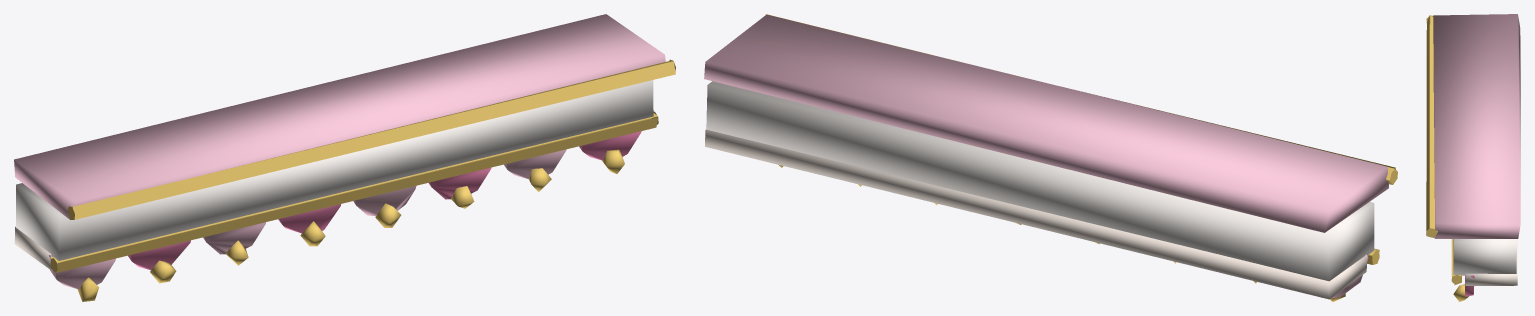
The model's file is lod_cornice_scallop.glb.
The picture shows the model from 3 angles, left to right: view 1: azimuth 30°, elevation 25°; view 2: azimuth 150°, elevation 25°; view 3: azimuth 270°, elevation 25°; orthographic projection. The views are drawn at different scales.
Visible parts, largest first — view 1: cornice_scallop; view 2: cornice_scallop; view 3: cornice_scallop.
Part boxes in pixels (x1,y1,x2,y2): cornice_scallop: (14, 14, 675, 301); cornice_scallop: (704, 14, 1397, 301); cornice_scallop: (1426, 14, 1520, 301).
Bounding box in the file's own units: 4 × 0.7942 × 0.7492.
